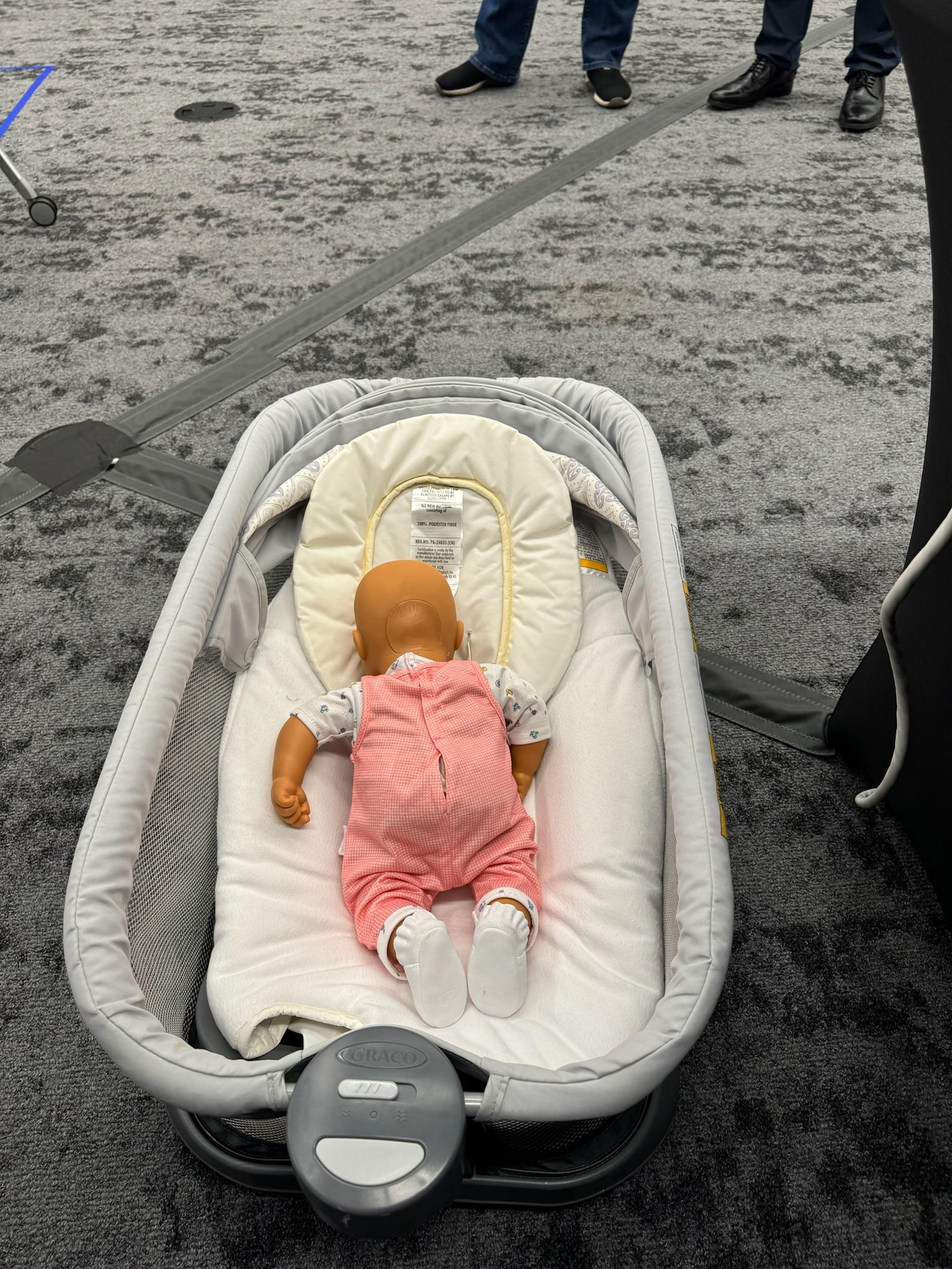baby: (273, 555, 573, 1028)
